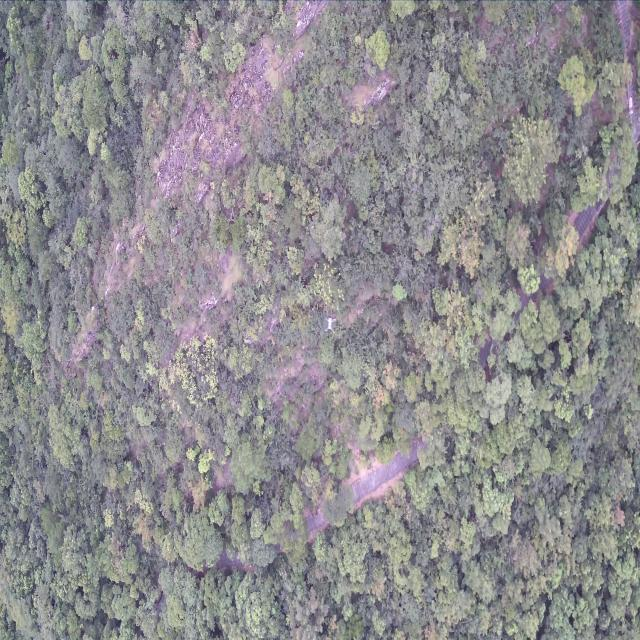UAV: (324, 316, 336, 333)
